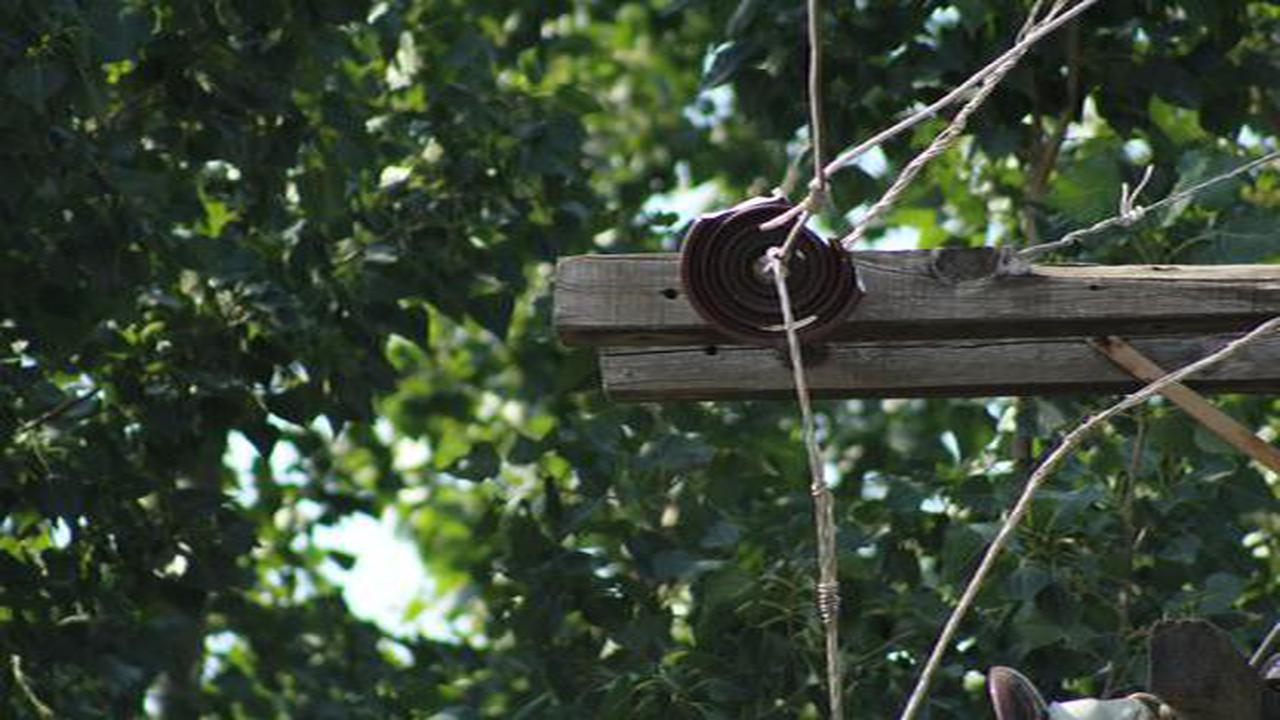defect_disc: (676, 188, 871, 357)
